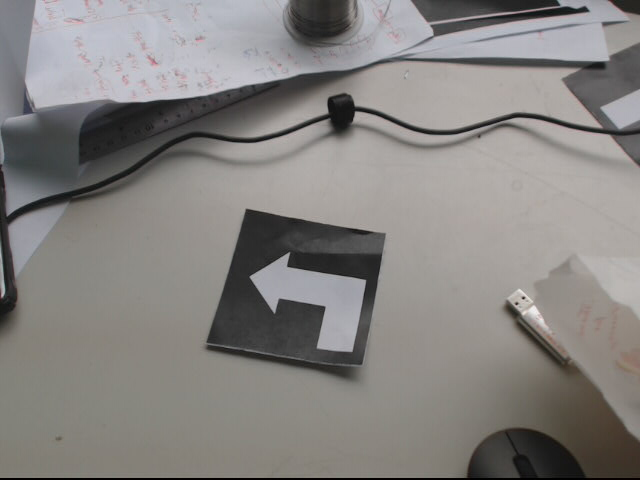left: (204, 206, 384, 367)
